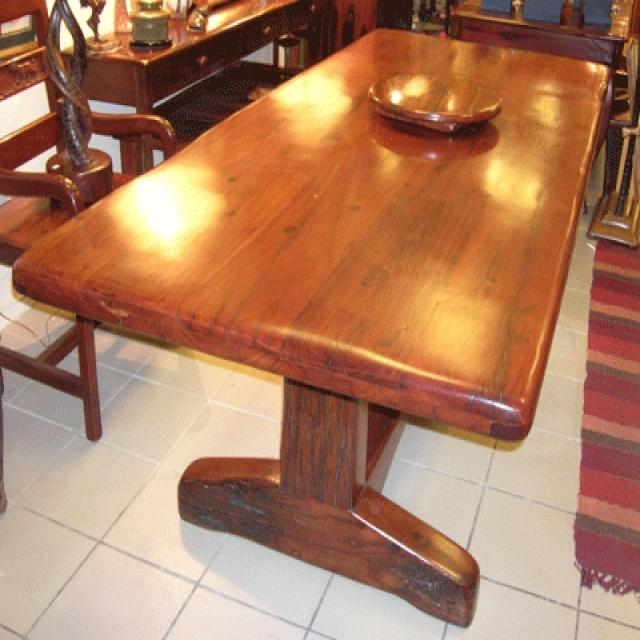table: (11, 23, 613, 627)
